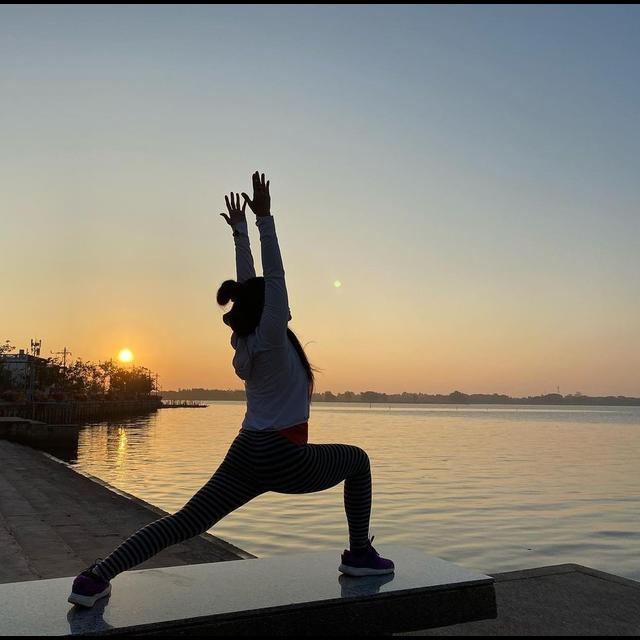Warrior_I: (56, 156, 402, 617)
